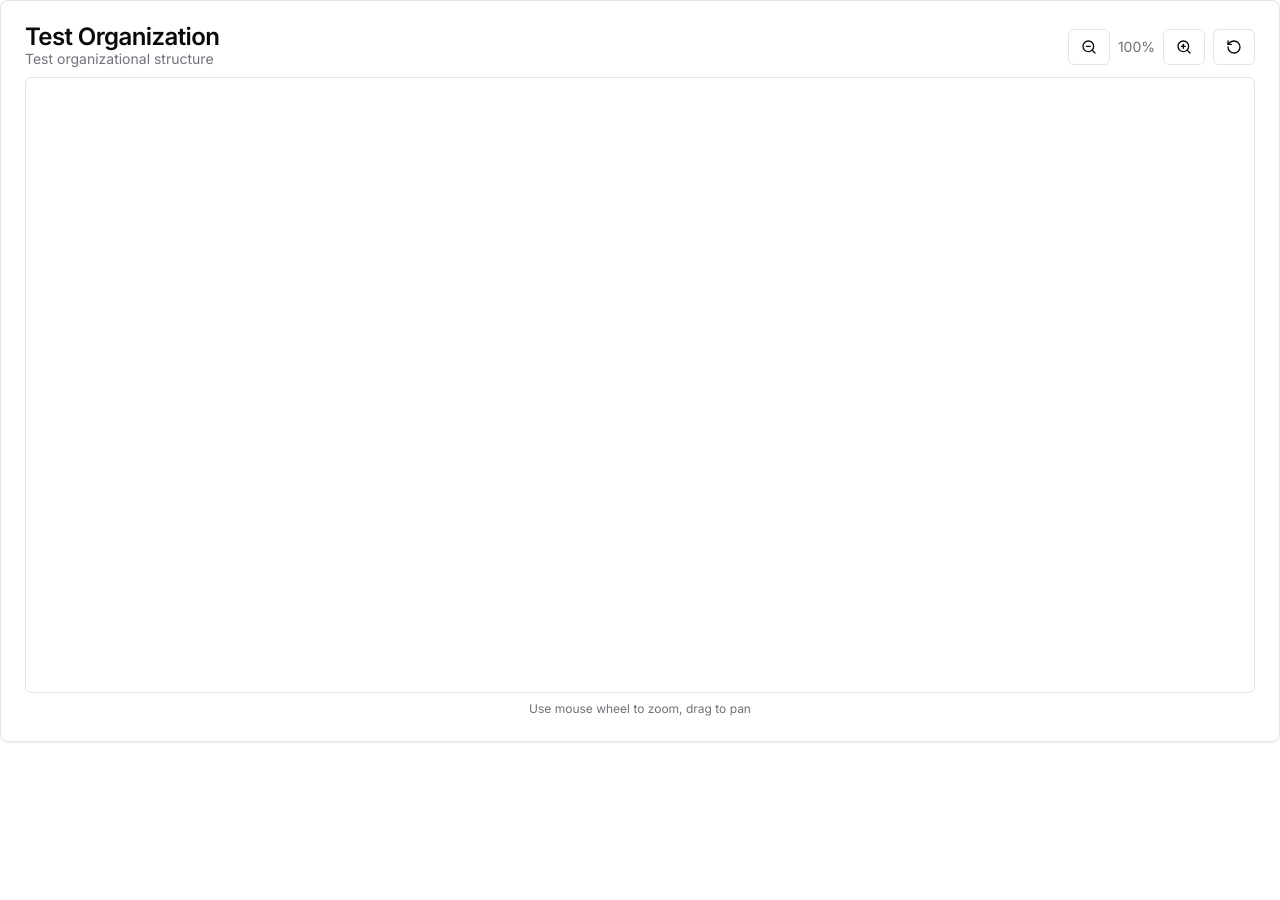
Test: OrgChartViewer › Zoom functionality › decreases zoom when zoom out button is clicked
This screenshot has width=1280, height=900.
First zoom in to have room to zoom out
Click the button named "Zoom in": click(1184, 47) [1163,29,1205,65]
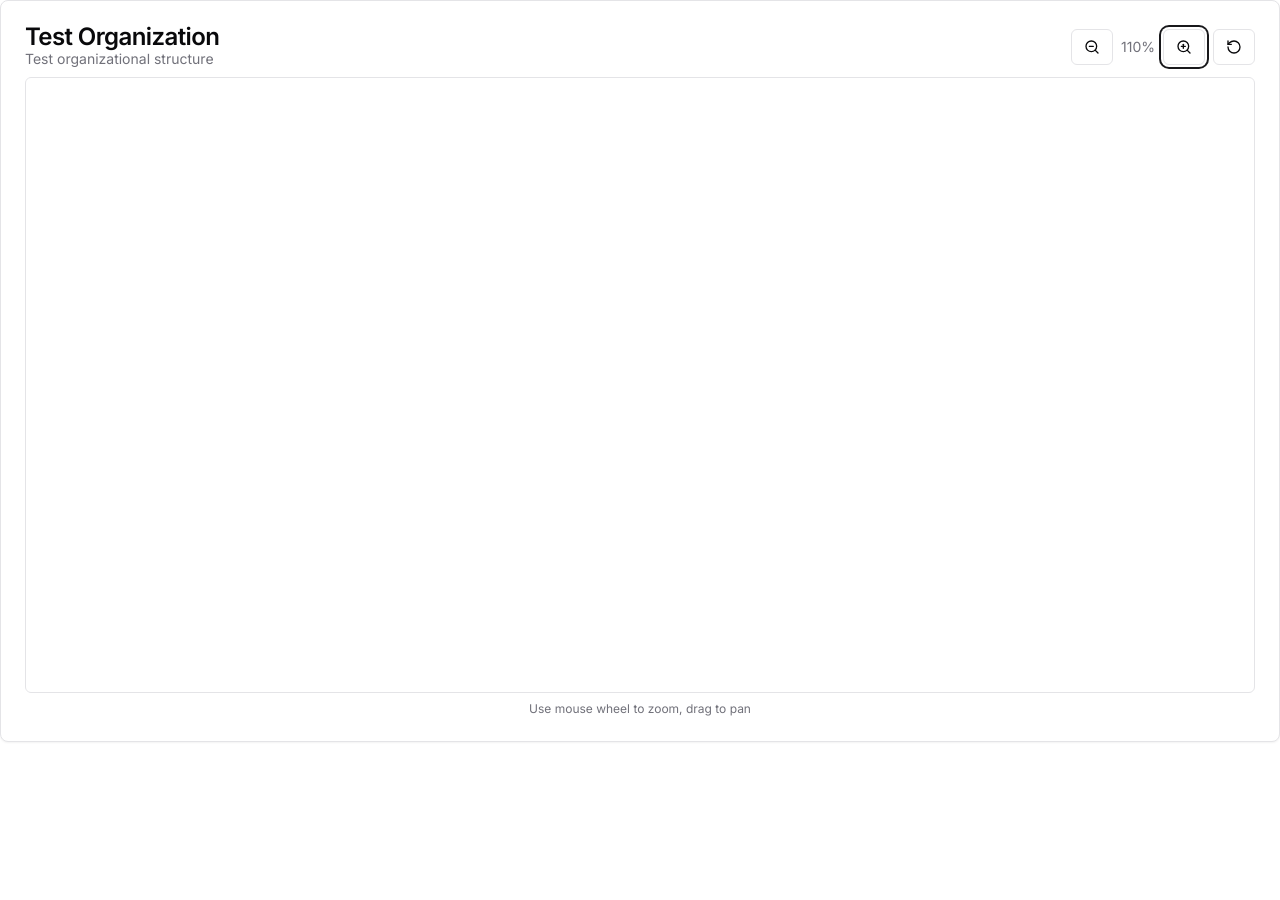
Check: the text "110%" is shown, box [1121,37,1155,57]
Click the button named "Zoom out": click(1092, 47) [1071,29,1113,65]
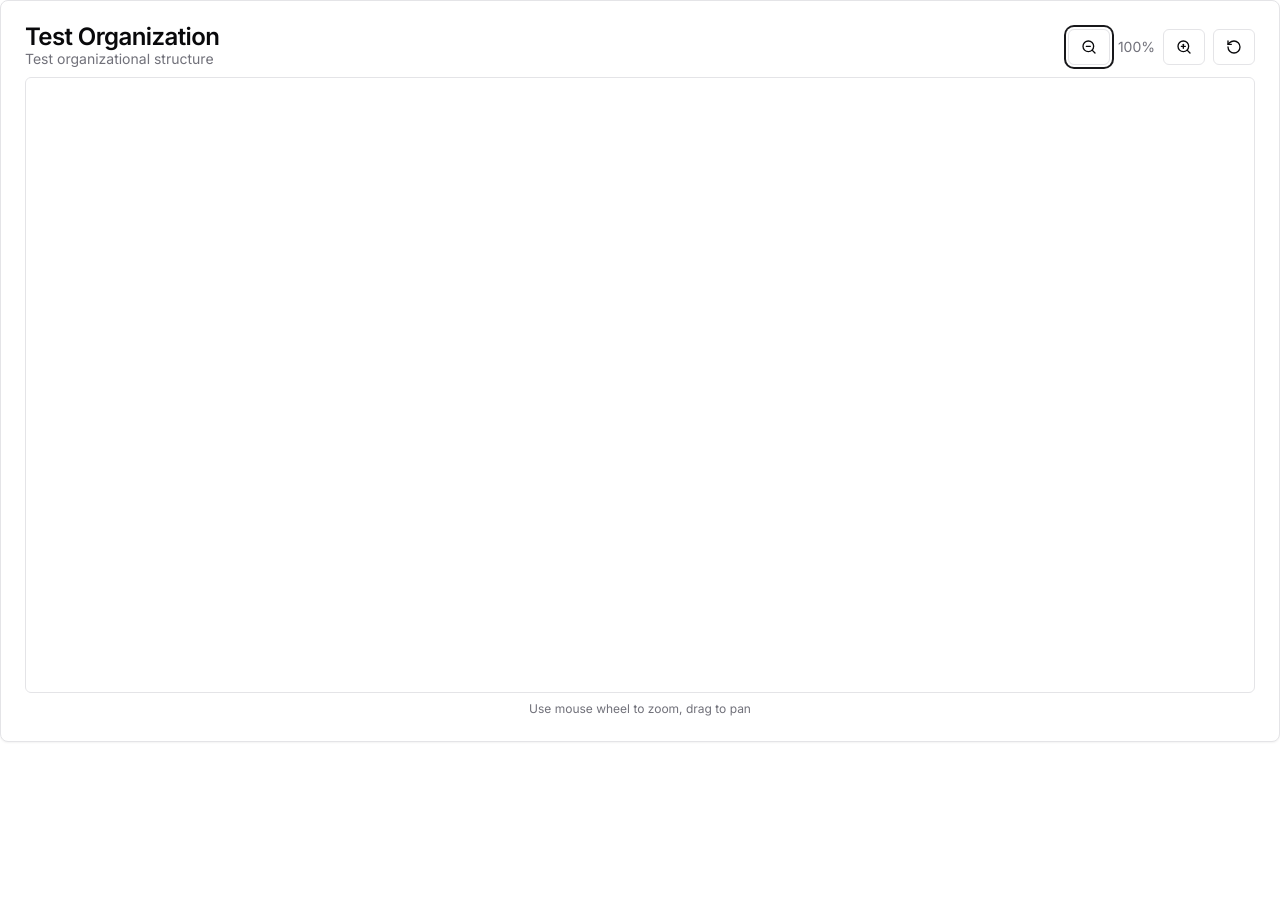
Check: the text "100%" is shown, box [1118,37,1155,57]
